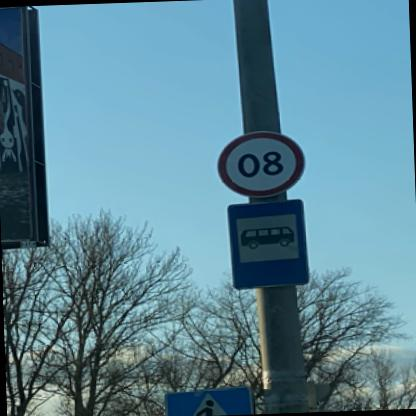crosswalk: (164, 385, 257, 415)
speedlimit: (219, 128, 309, 196)
